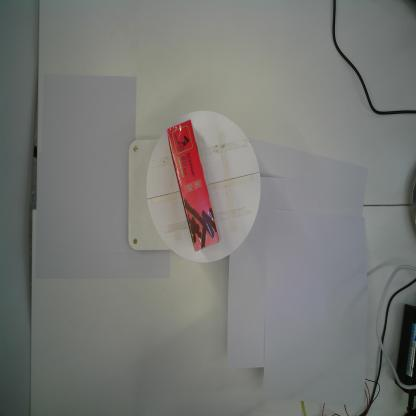Instant Drink: (166, 119, 221, 254)
